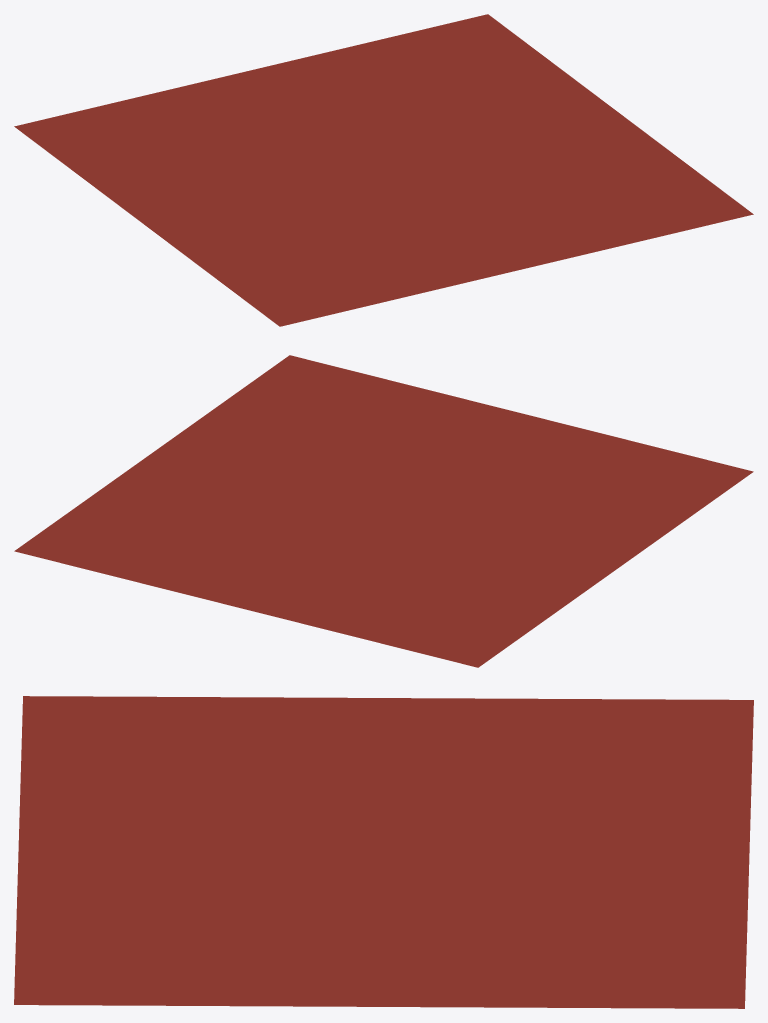
The model's file is Prop_TeaSet_Tea.glb.
3 renders of one model, top to bottom at view 1: azimuth 30°, elevation 25°; view 2: azimuth 150°, elevation 25°; view 3: azimuth 270°, elevation 25°, orthographic. The views are drawn at different scales.
Parts seen in each view (by area): view 1: Prop_TeaSet_Tea; view 2: Prop_TeaSet_Tea; view 3: Prop_TeaSet_Tea.
Boxes of the visible parts, bbox=[...] form: Prop_TeaSet_Tea: bbox=[14, 14, 753, 326]; Prop_TeaSet_Tea: bbox=[14, 355, 753, 667]; Prop_TeaSet_Tea: bbox=[14, 696, 753, 1008].
Size of the model in its own units: 1.19 by 0 by 1.19.
1 material, 1 textured.
